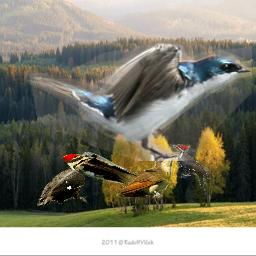Cuckoo: (76, 152, 180, 198)
Swallow: (26, 40, 252, 161)
Woodpecker: (37, 154, 97, 206), (169, 144, 211, 195)
